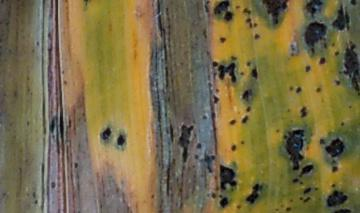tarspot: (341, 42, 360, 94), (284, 129, 305, 171), (305, 22, 328, 53), (262, 1, 288, 26), (178, 124, 194, 162), (332, 3, 351, 33), (219, 163, 237, 191), (325, 136, 346, 157), (218, 62, 237, 83), (327, 191, 348, 207), (307, 1, 324, 18), (247, 185, 261, 204), (214, 1, 231, 16), (205, 153, 216, 173), (300, 163, 314, 177), (100, 127, 113, 140), (224, 10, 234, 23), (117, 133, 126, 147), (220, 195, 229, 209), (251, 66, 259, 80), (241, 90, 250, 102), (332, 208, 351, 213), (300, 106, 307, 119), (302, 186, 312, 195), (241, 114, 249, 125), (49, 179, 57, 190), (246, 17, 253, 29), (218, 35, 227, 44), (243, 7, 252, 16), (304, 64, 312, 73), (332, 50, 341, 58), (330, 165, 339, 173), (291, 176, 300, 184), (230, 142, 237, 152), (212, 95, 220, 103), (334, 78, 342, 86), (319, 138, 327, 146), (339, 119, 346, 128), (73, 160, 79, 170), (320, 56, 326, 66), (349, 1, 359, 7), (304, 194, 310, 204), (229, 118, 236, 126), (239, 138, 246, 146), (234, 3, 242, 10), (200, 114, 208, 121), (211, 191, 217, 200), (296, 85, 302, 94), (212, 60, 219, 67), (254, 33, 261, 40), (315, 86, 322, 93), (330, 41, 337, 48), (285, 206, 292, 213), (274, 127, 281, 134), (234, 204, 242, 210), (288, 84, 294, 92), (246, 104, 251, 113), (196, 142, 202, 149), (231, 55, 238, 61), (239, 70, 246, 76), (347, 103, 353, 110), (330, 158, 337, 164), (299, 194, 304, 202), (314, 185, 319, 193), (246, 61, 252, 67), (253, 21, 258, 28), (331, 182, 336, 189), (33, 198, 38, 205), (195, 152, 199, 160)
